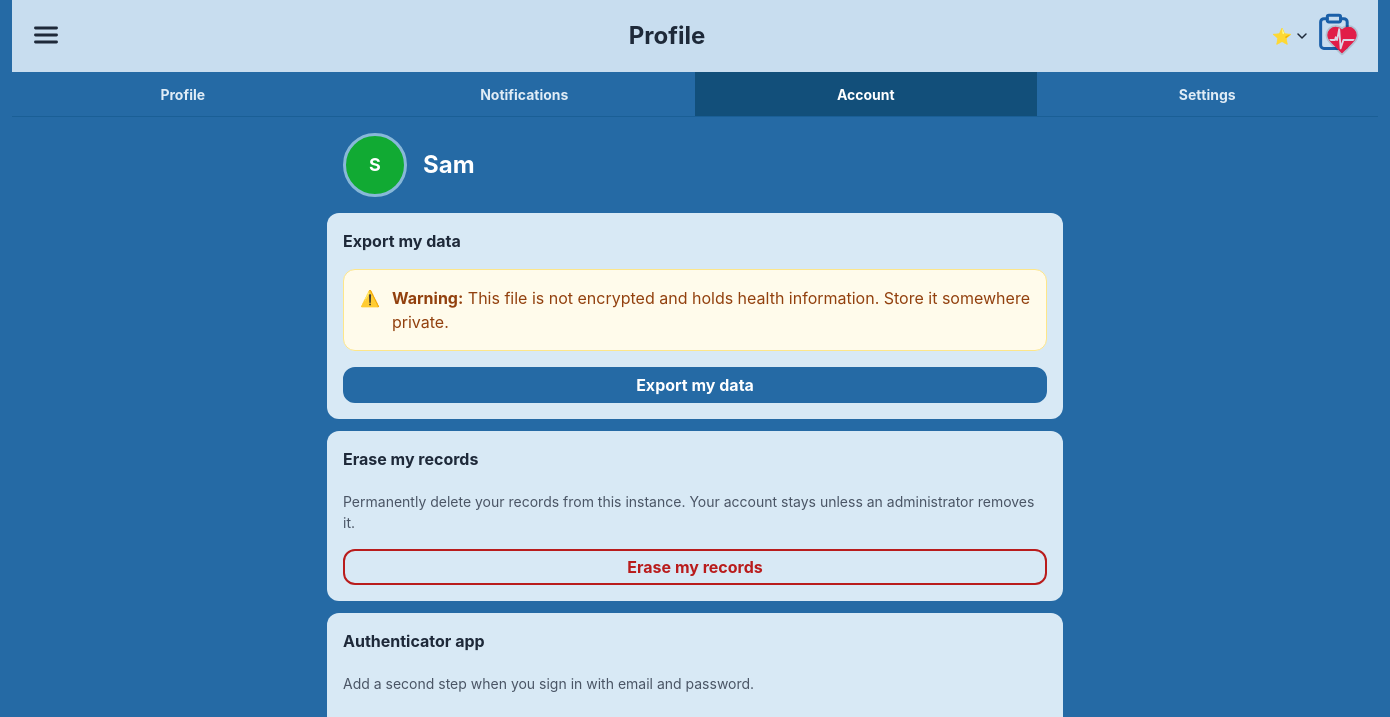
Test case: Profile self-service erase › erases the linked Person after a password, and says a None-role account is signed out
Click the button "Erase my records" at (695, 567), box [343, 549, 1047, 585]
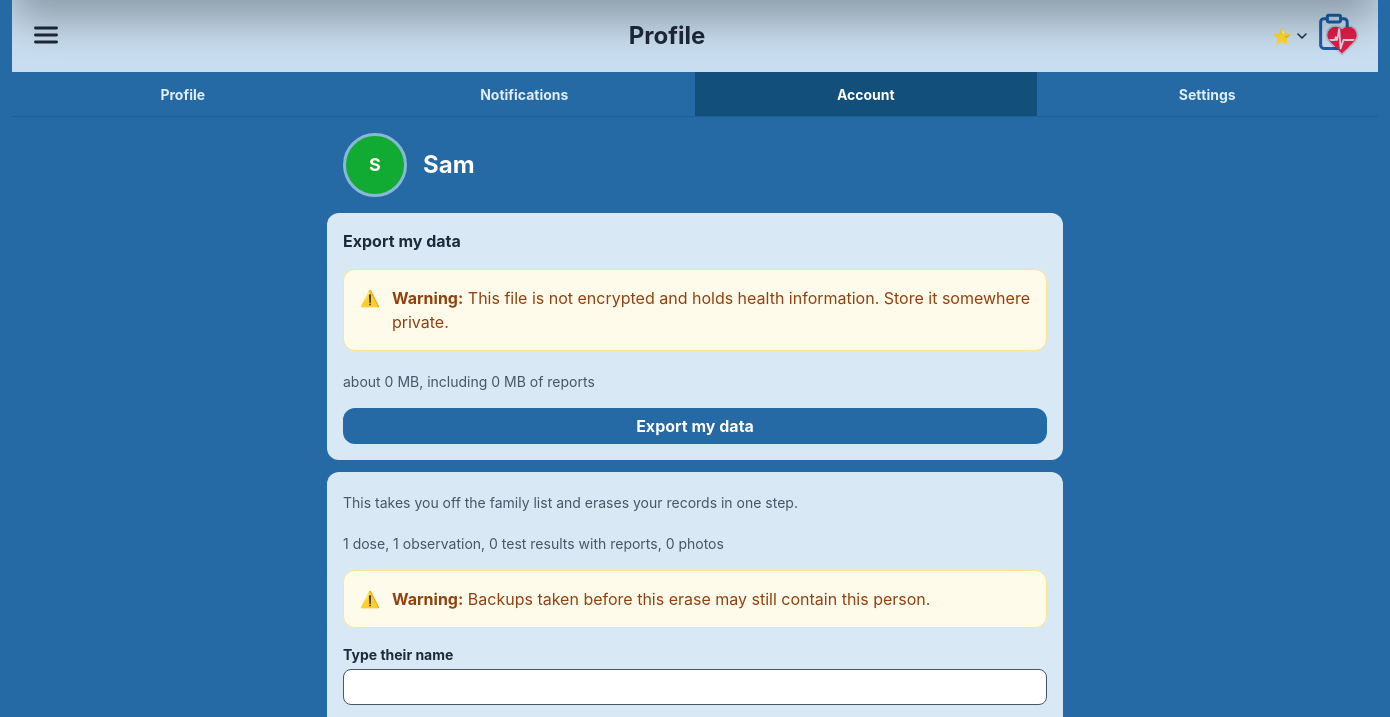
Check: the text "1 dose, 1 observation, 0 test results with reports, 0 photos" is shown, box [343, 535, 724, 552]
Check: the text "Backups taken before this erase may still contain this person." is shown, box [468, 589, 930, 609]
Check: the text "This takes you off the family list and erases your records in one step." is shown, box [343, 494, 798, 511]
Type "Sam" into the field labelled "Type their name" at (695, 687), box [343, 669, 1047, 705]
(page scrolled)
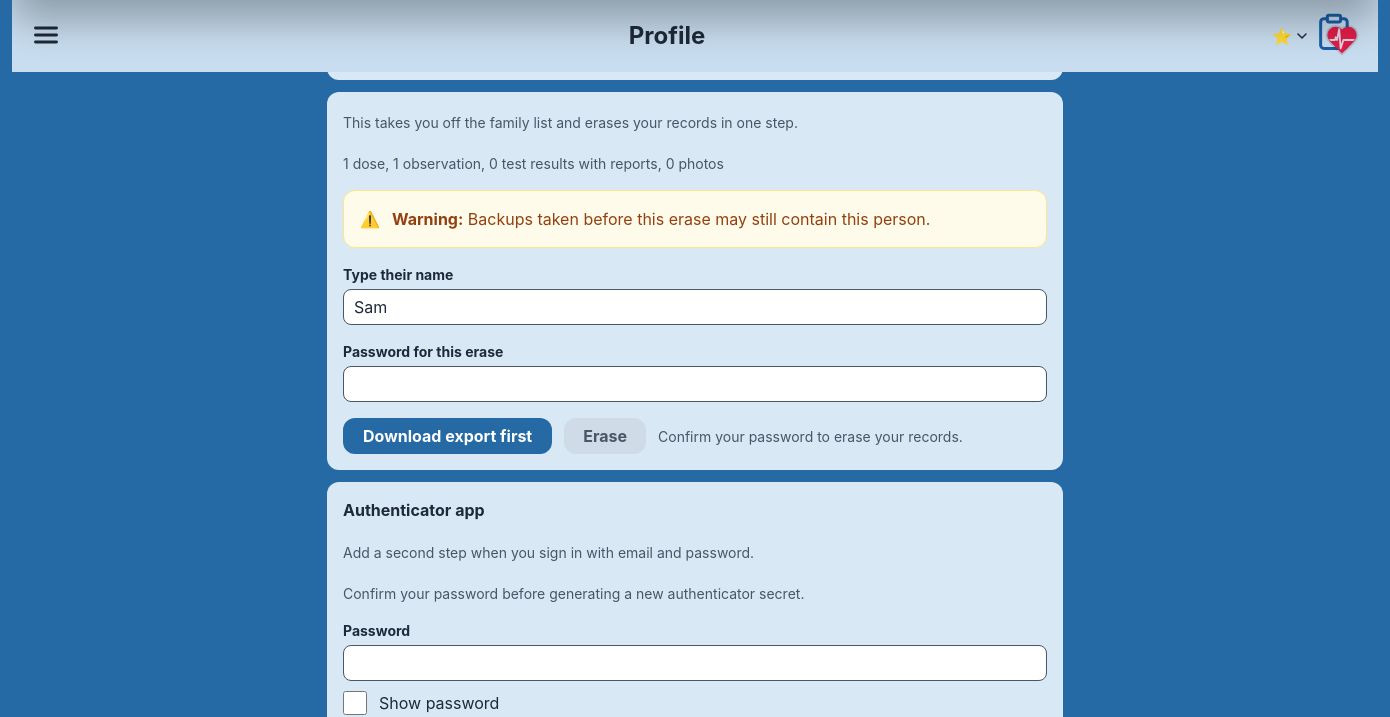
Check: the button "Confirm your password to erase your records." is shown, box [658, 426, 963, 446]
Type "sam-secret" into the password field labelled "Password for this erase" at (695, 384), box [343, 366, 1047, 402]
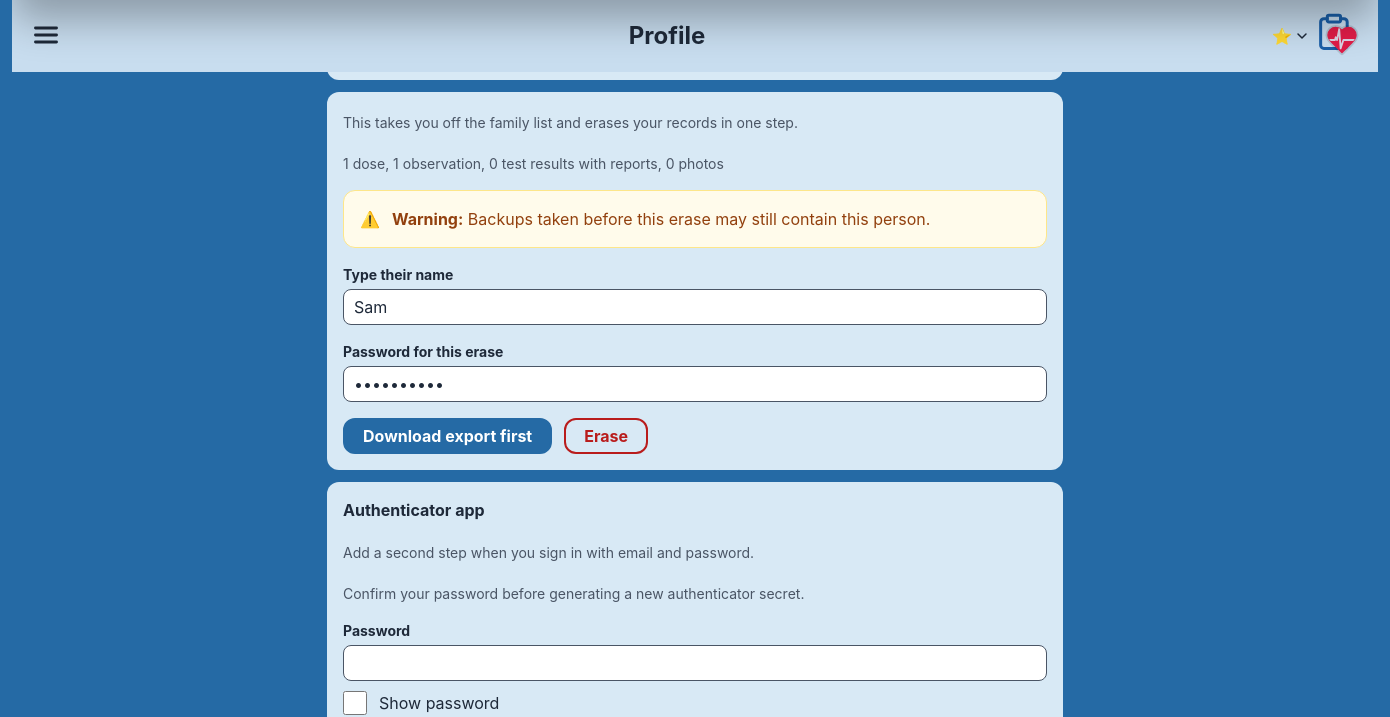
Click the button "Erase" at (606, 436), box [564, 418, 648, 454]
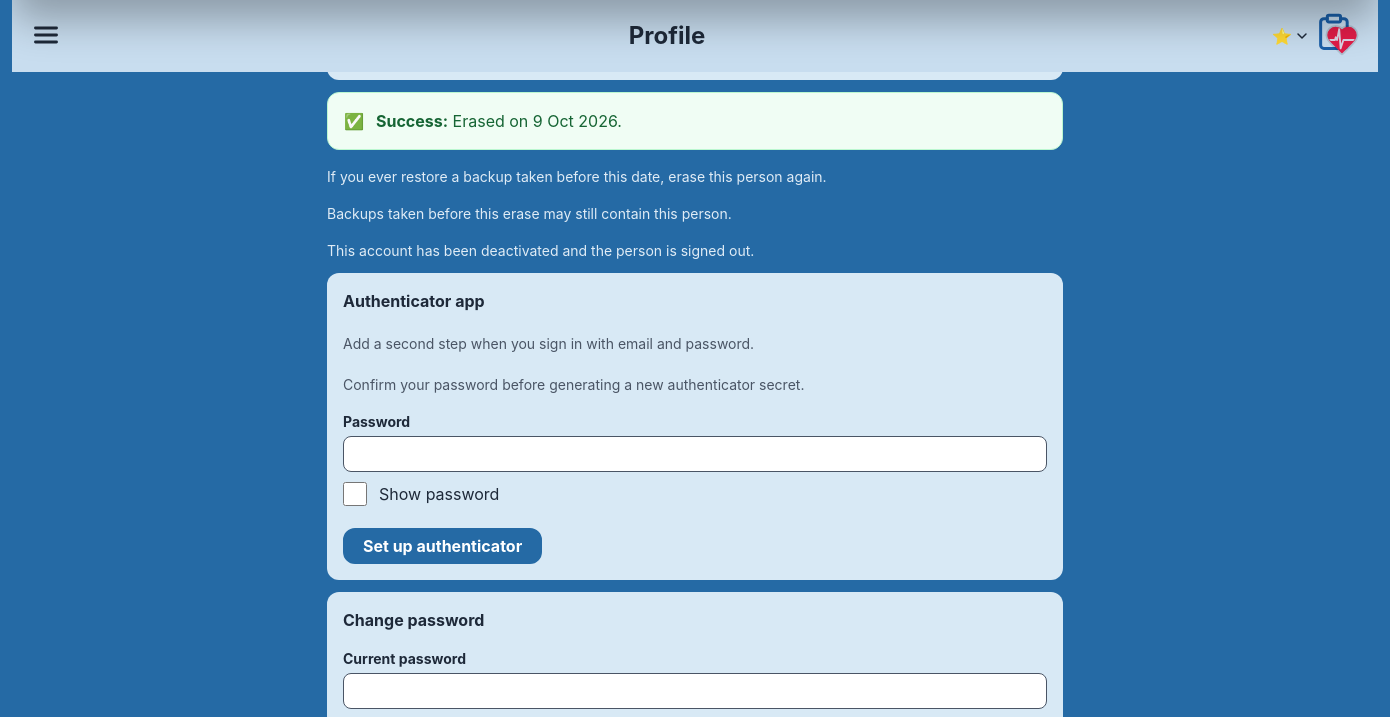
Check: the text "This account has been deactivated and the person is signed out." is shown, box [327, 242, 754, 259]
